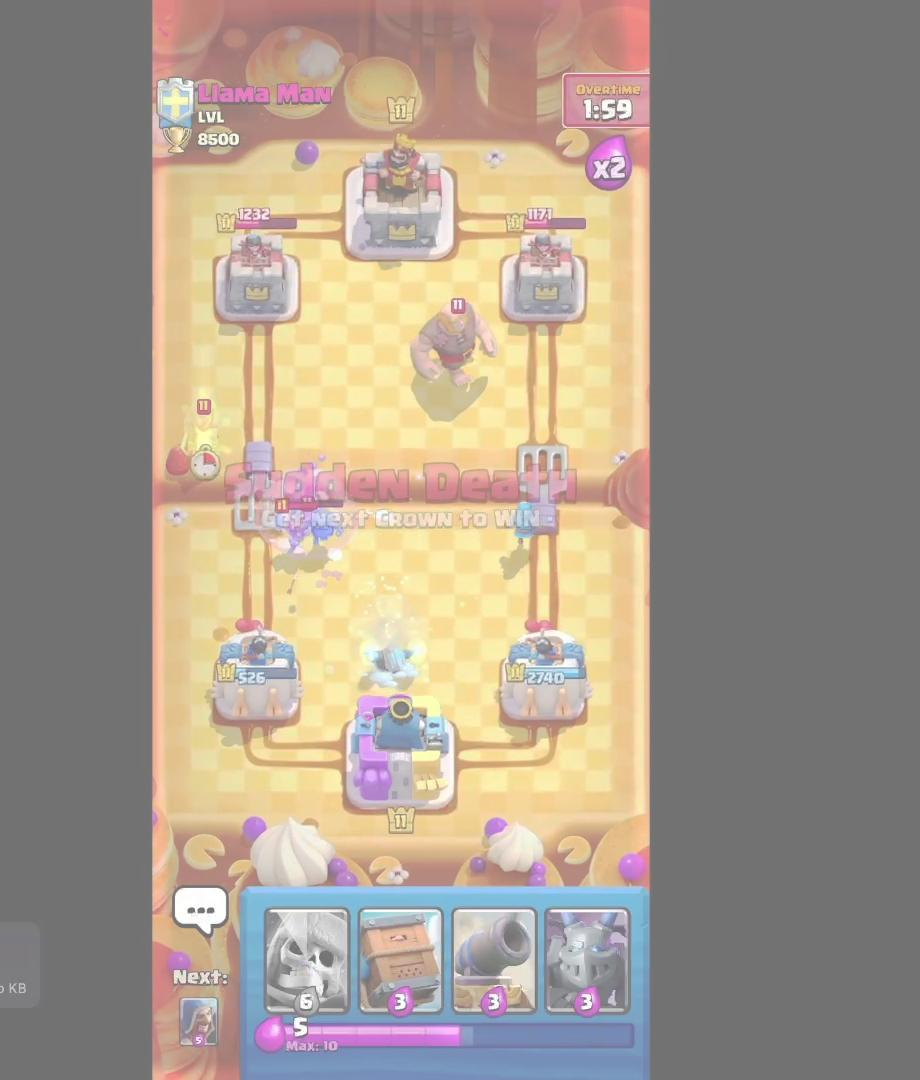Giant: (400, 291, 506, 399)
Hog Rider: (168, 396, 247, 478)
Mini Pekka: (302, 488, 361, 554)
Valkyrie: (268, 487, 319, 552)
